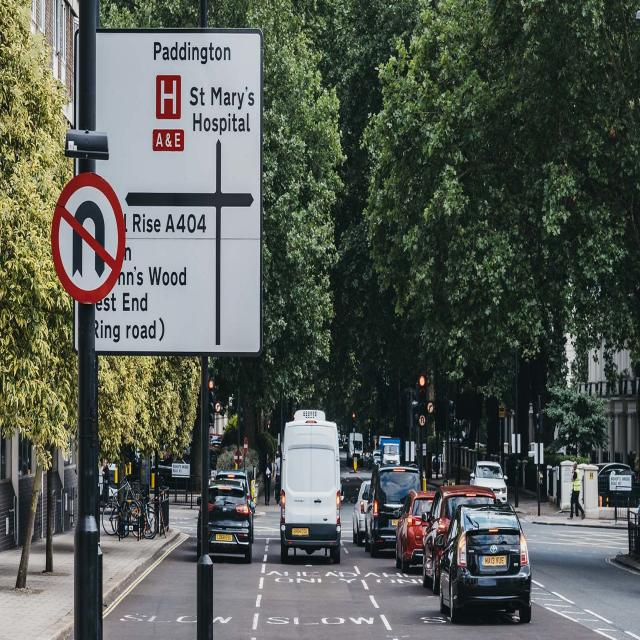no u turn: (48, 169, 128, 306), (419, 414, 426, 426)
